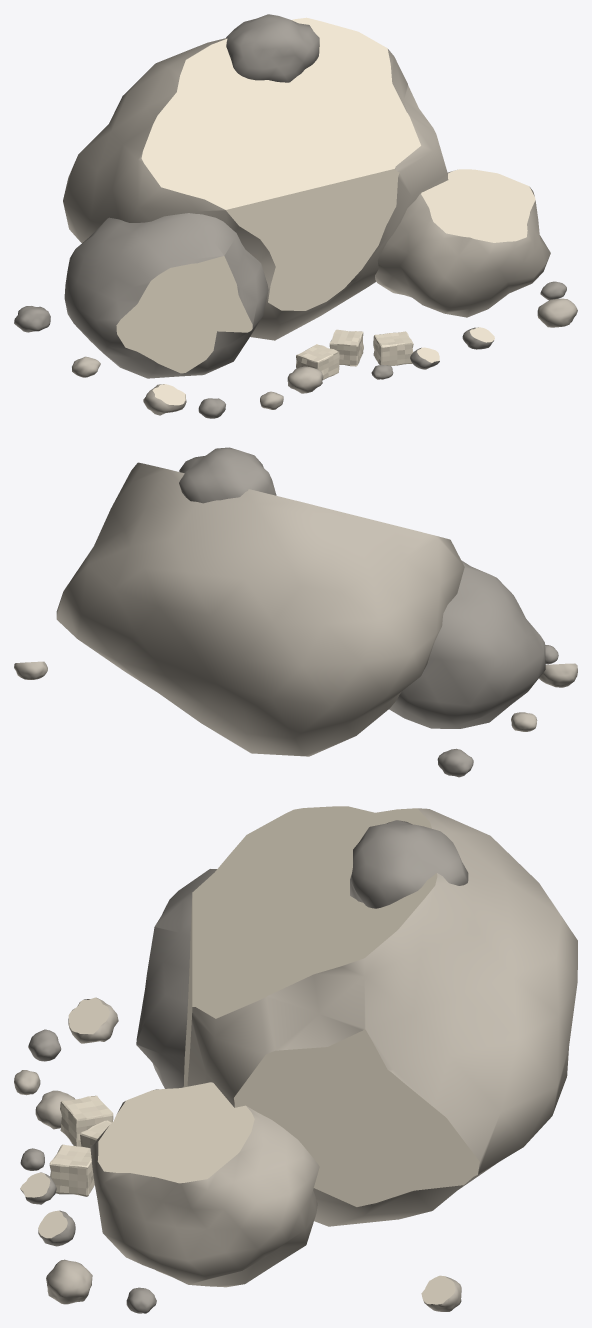
File: quarry.glb
3 views of the same model, one above another, from view 1: azimuth 30°, elevation 25°; view 2: azimuth 150°, elevation 25°; view 3: azimuth 270°, elevation 25° (orthographic). The views are drawn at different scales.
Parts seen in each view (by area): view 1: Quarry; view 2: Quarry; view 3: Quarry.
Part boxes in pixels (x1=…): Quarry: x1=14, y1=14, x2=577, y2=418; Quarry: x1=14, y1=447, x2=577, y2=777; Quarry: x1=14, y1=806, x2=577, y2=1313.
Bounding box in the file's own units: 6.02 × 3.56 × 4.68.
